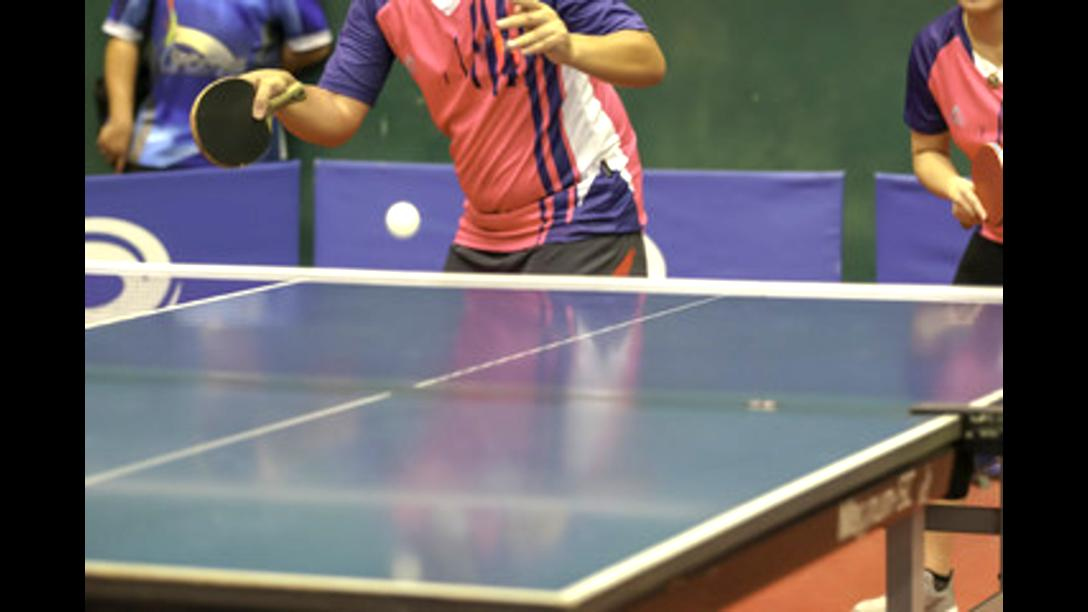Table-Tennis-Ball: (384, 202, 420, 236)
